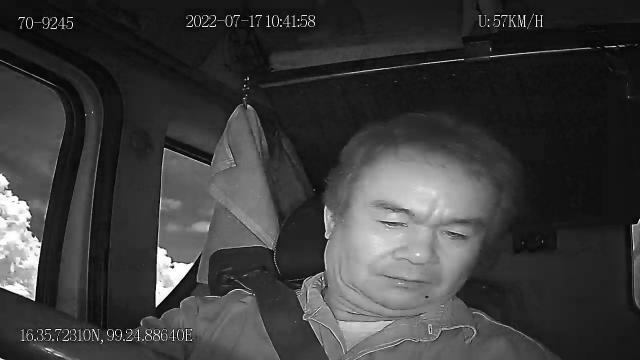SafeDriving: (430, 218, 480, 246)
Seatbelt: (228, 274, 332, 360)
